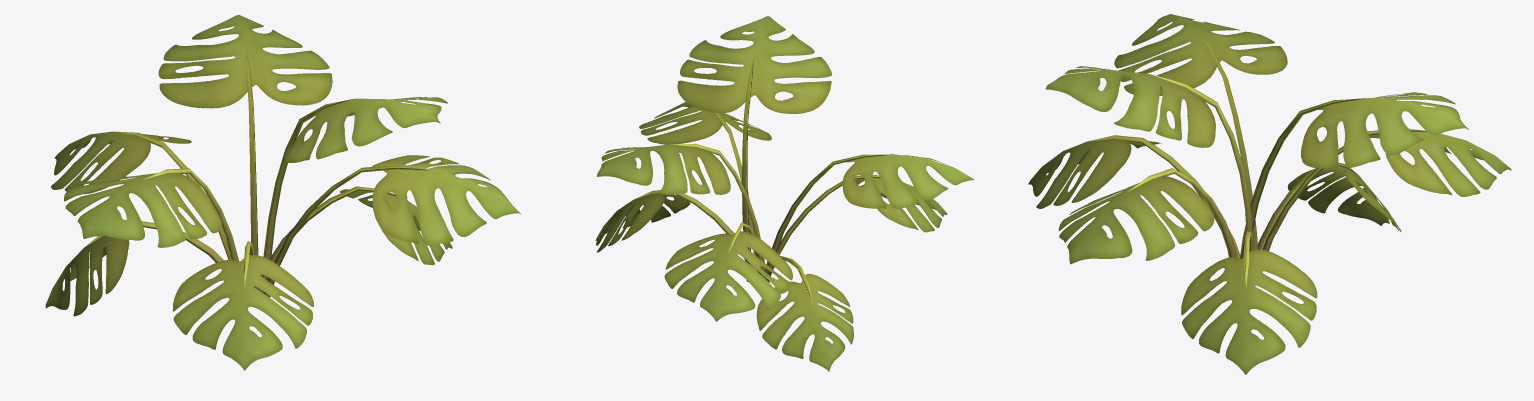
File: monstera 02.obj
3 views of the same model, side by side, from view 1: azimuth 30°, elevation 25°; view 2: azimuth 150°, elevation 25°; view 3: azimuth 270°, elevation 25° (orthographic). The views are drawn at different scales.
Visible parts, largest first — view 1: tree; view 2: tree; view 3: tree.
Part boxes in pixels (box(x1,y1,x2,y2)): tree: box(45, 15, 521, 370); tree: box(595, 16, 974, 371); tree: box(1028, 14, 1511, 374).
Size of the model in its own units: 143 by 80.91 by 131.
